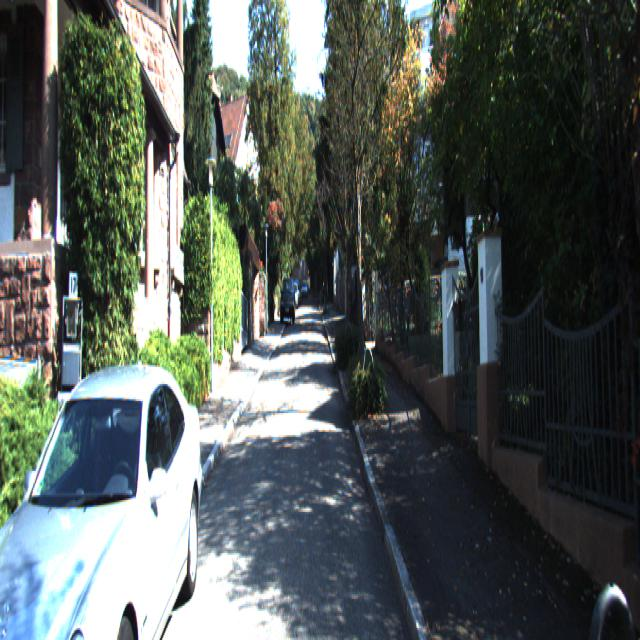Car: (0, 350, 207, 638), (280, 281, 296, 330)
